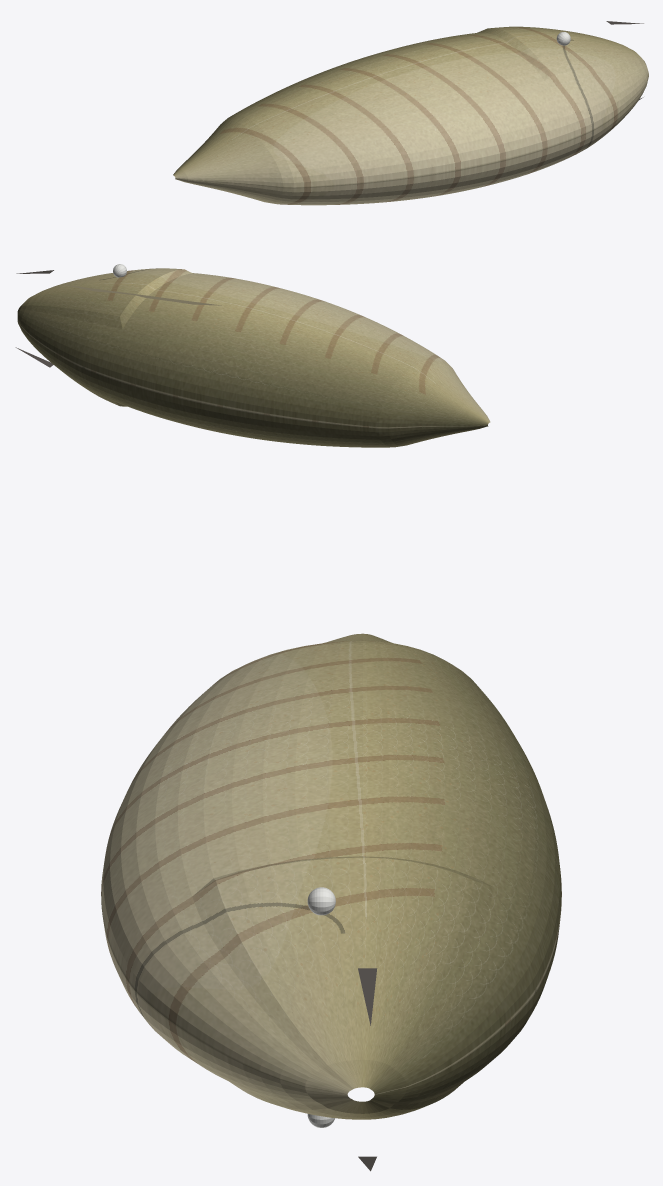
File: atlantic_croaker_photoreal_style.glb
3 views of the same model, one above another, from view 1: azimuth 30°, elevation 25°; view 2: azimuth 150°, elevation 25°; view 3: azimuth 270°, elevation 25° (orthographic). The views are drawn at different scales.
Parts seen in each view (by area): view 1: body; view 2: body, pectoral_fin_1; view 3: body, world.
Boxes of the visible parts, x1,y1,x2,y2 form: body: [173, 26, 648, 205]; body: [17, 268, 490, 447]; pectoral_fin_1: [64, 284, 221, 305]; body: [101, 633, 561, 1119]; world: [307, 887, 335, 1127].
Bounding box in the file's own units: 3.31 × 0.704 × 1.11.
1 material, 1 textured.
